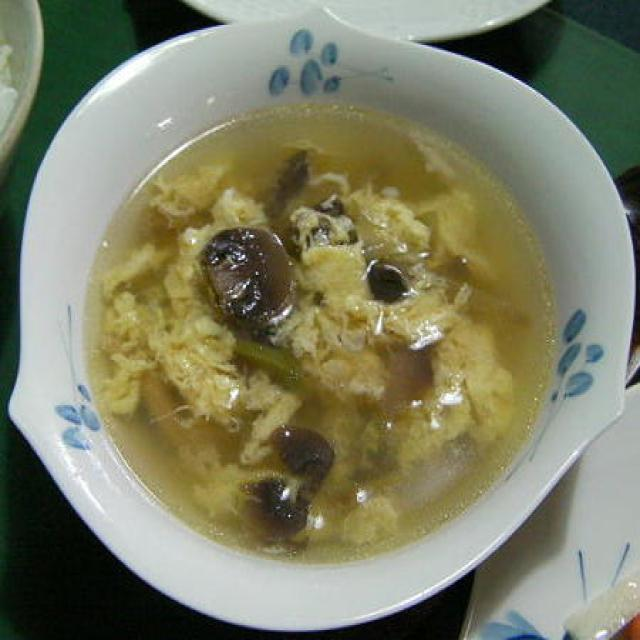汤锅炖物: (34, 39, 602, 588)
